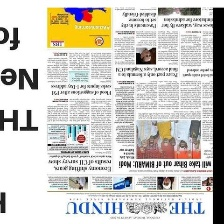news_paper: (46, 6, 215, 223)
